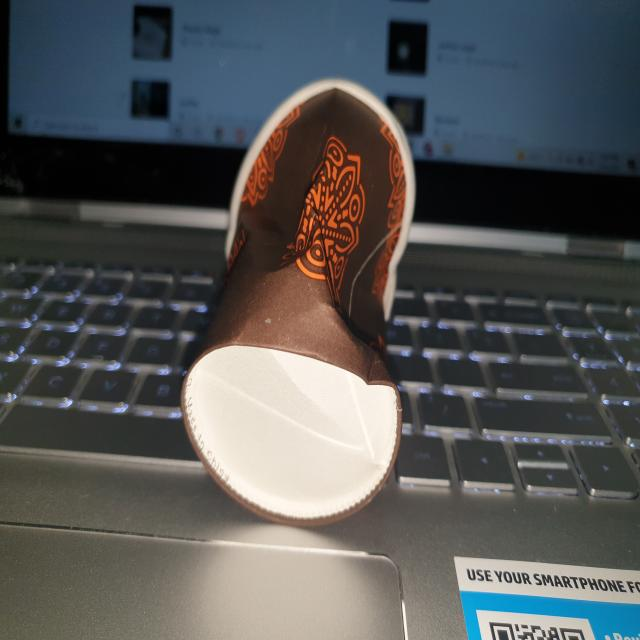cups: (168, 65, 429, 535)
